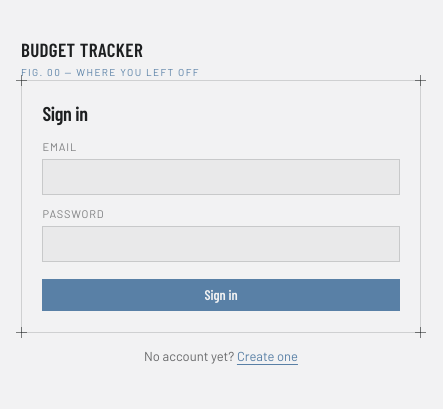
signing in › says what went wrong without saying which half was wrong
The image size is (443, 409).
Type "ada@example.com" into the field labelled "Email" at [221, 177], box [42,159,400,195]
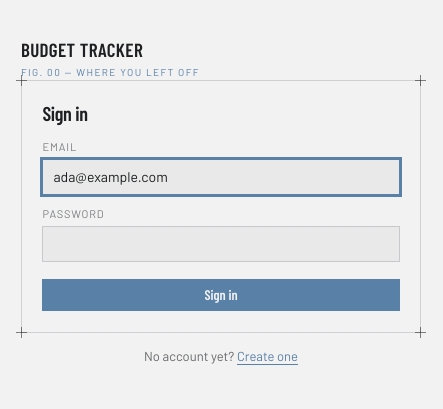
Type "wrong-password" into the password field labelled "Password" at [221, 244], box [42,226,400,262]
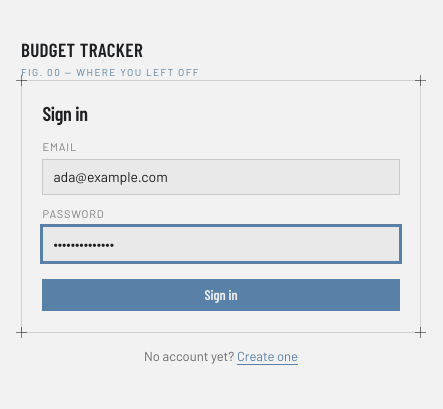
Click the button "Sign in" at [221, 295], box [42,279,400,311]
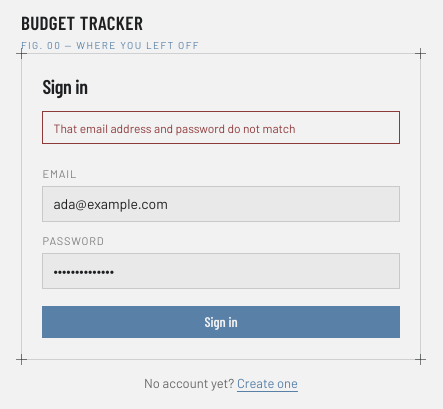
Expected: the message reads "That email address and password do not match", [54,121,296,135]
